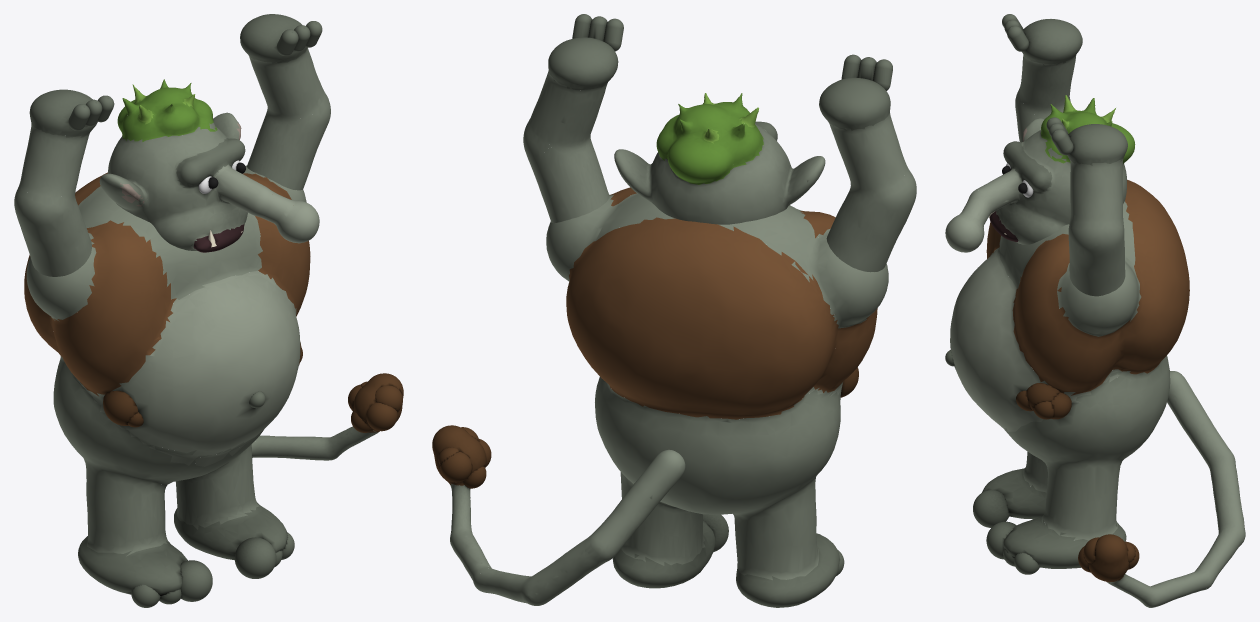
File: kan-du-hjalpa-mig-att-bara.glb
3 renders of one model, left to right at view 1: azimuth 30°, elevation 25°; view 2: azimuth 150°, elevation 25°; view 3: azimuth 270°, elevation 25°, orthographic. The views are drawn at different scales.
Parts seen in each view (by area): view 1: troll__r0, bracos__r0, cabeca__r0, rabo__r0, troll__r15, troll__r1, troll__r3, rabo__r3, rabo__r2; view 2: troll__r0, bracos__r0, cabeca__r0, rabo__r0, rabo__r1; view 3: troll__r0, bracos__r0, cabeca__r0, rabo__r0, troll__r1, troll__r15, troll__r9, troll__r12, troll__r17.
Boxes of the visible parts, x1,y1,x2,y2 form: troll__r0: [24, 165, 310, 595]; bracos__r0: [14, 14, 330, 276]; cabeca__r0: [99, 79, 319, 252]; rabo__r0: [251, 373, 403, 460]; troll__r15: [234, 537, 276, 578]; troll__r1: [180, 560, 212, 601]; troll__r3: [103, 390, 138, 425]; rabo__r3: [366, 402, 397, 431]; rabo__r2: [375, 385, 402, 411]; troll__r0: [546, 187, 888, 607]; bracos__r0: [523, 37, 916, 272]; cabeca__r0: [614, 93, 825, 224]; rabo__r0: [432, 425, 685, 605]; rabo__r1: [440, 451, 472, 482]; troll__r0: [950, 179, 1189, 568]; bracos__r0: [1015, 19, 1127, 296]; cabeca__r0: [945, 95, 1135, 252]; rabo__r0: [1088, 371, 1245, 607]; troll__r1: [973, 490, 1009, 527]; troll__r15: [986, 521, 1016, 559]; troll__r9: [1026, 383, 1059, 410]; troll__r12: [1051, 392, 1071, 419]; troll__r17: [1014, 552, 1039, 574].
Size of the model in its own units: 2.32 by 2.72 by 1.58.
